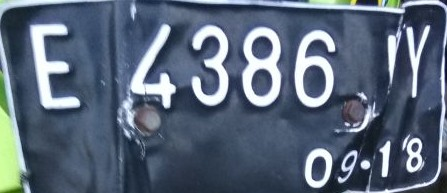plate: (1, 2, 443, 193)
